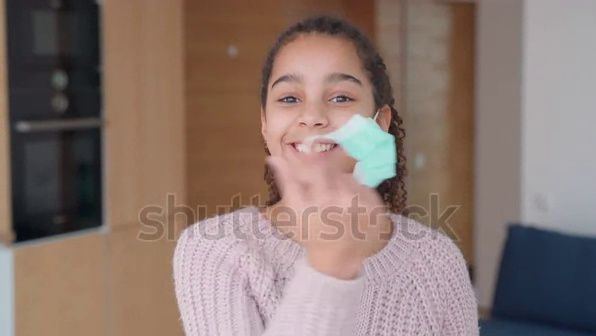Mask: (256, 113, 394, 188)
